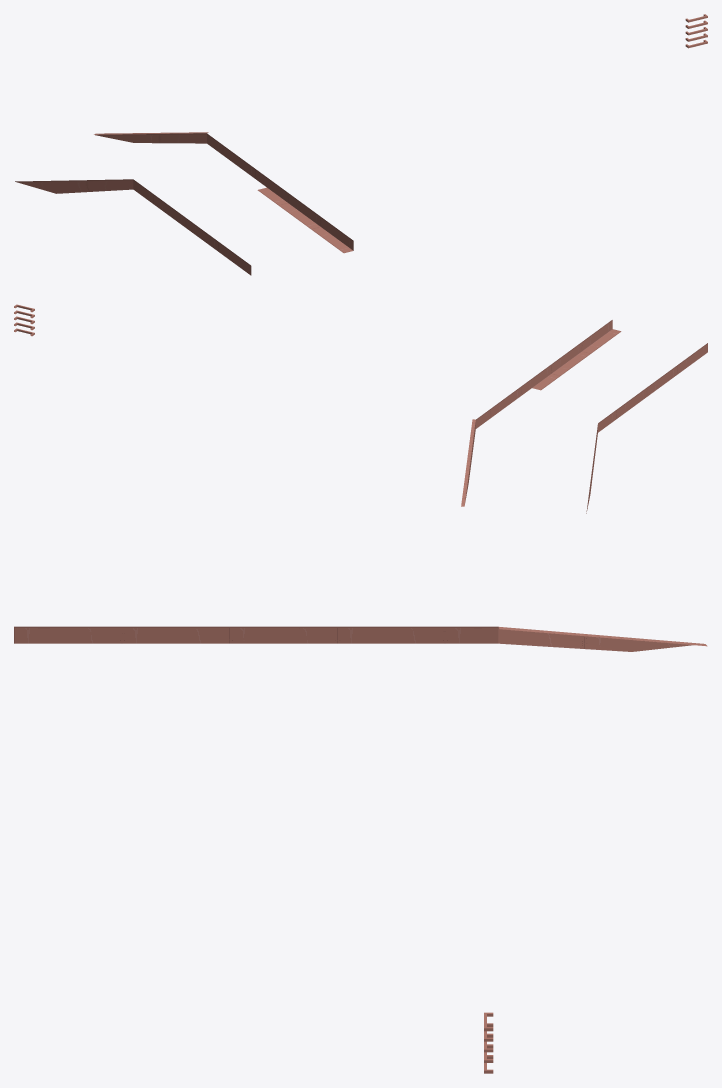
File: kd_stage_136282_1_38.glb
3 renders of one model, top to bottom at view 1: azimuth 30°, elevation 25°; view 2: azimuth 150°, elevation 25°; view 3: azimuth 270°, elevation 25°, orthographic. The views are drawn at different scales.
Parts seen in each view (by area): view 1: kd_stage_136282_1_38; view 2: kd_stage_136282_1_38; view 3: kd_stage_136282_1_38.
Part boxes in pixels (box(x1,y1,x2,y2)): kd_stage_136282_1_38: box(15, 14, 707, 275); kd_stage_136282_1_38: box(14, 304, 707, 513); kd_stage_136282_1_38: box(14, 626, 707, 1073).
Size of the model in its own units: 19.92 by 1.1 by 11.12.
1 material, 1 textured.
